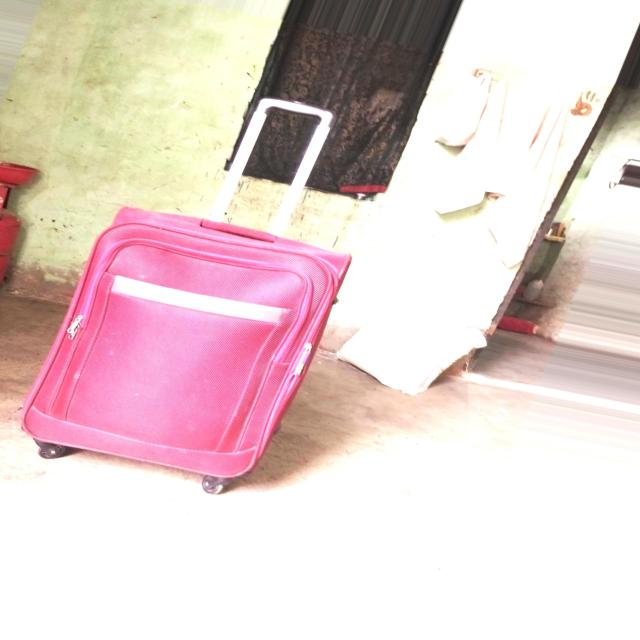Bag: (0, 88, 360, 510)
Handle: (206, 93, 347, 233)
